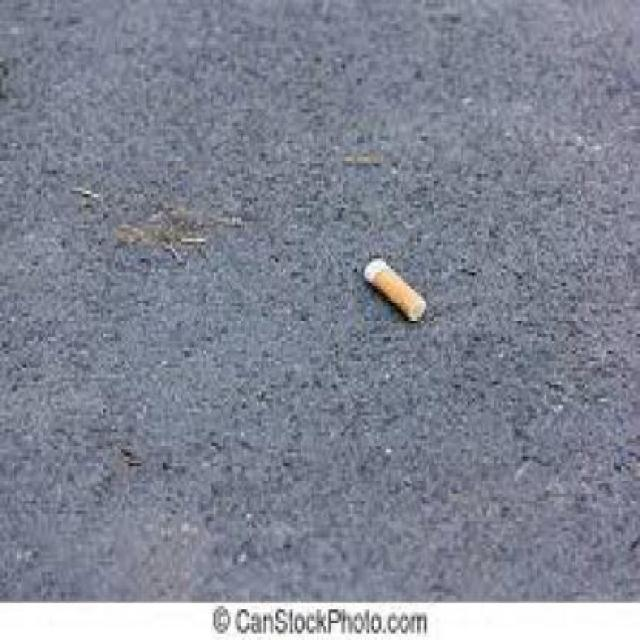cigarette: (354, 248, 434, 330)
